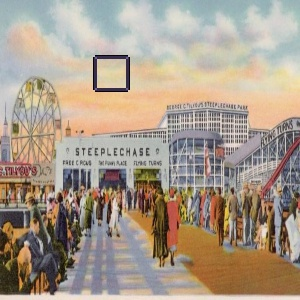square: (92, 53, 131, 92)
